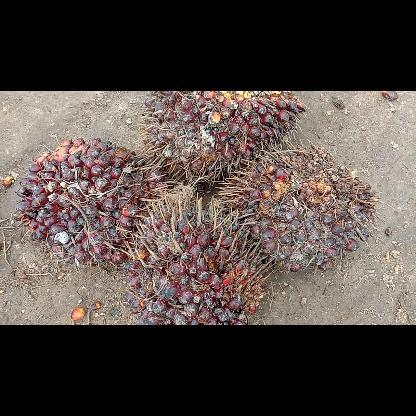TBS masak: (214, 140, 384, 270), (14, 138, 176, 270), (123, 192, 267, 324), (138, 91, 306, 185)
